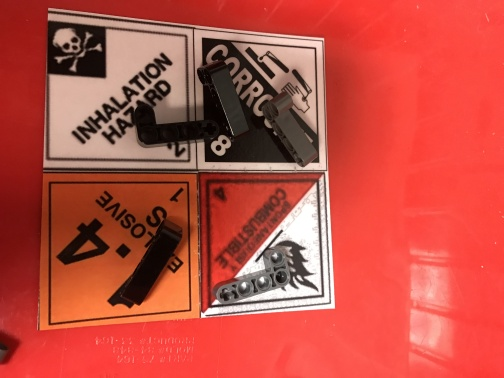Corrosive: (195, 26, 329, 170)
Explosive: (39, 171, 201, 322)
InhalationHazard: (45, 20, 190, 162)
SpontaneouslyCombustible: (199, 171, 336, 314)
